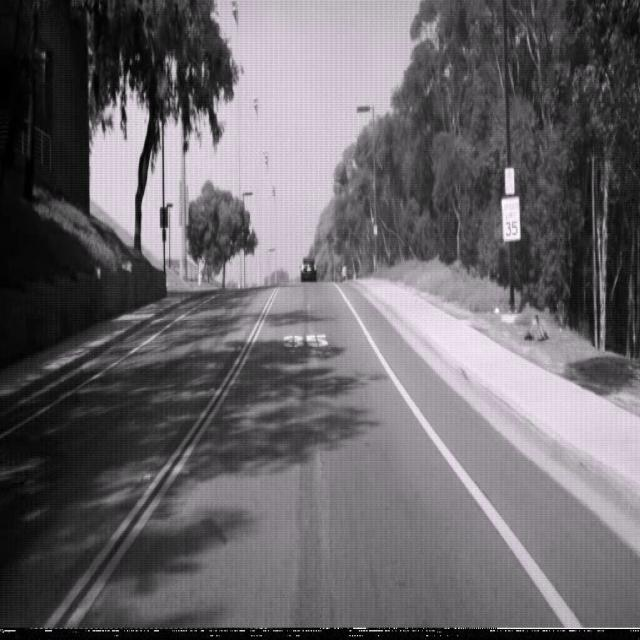speedLimit35: (500, 194, 521, 242)
